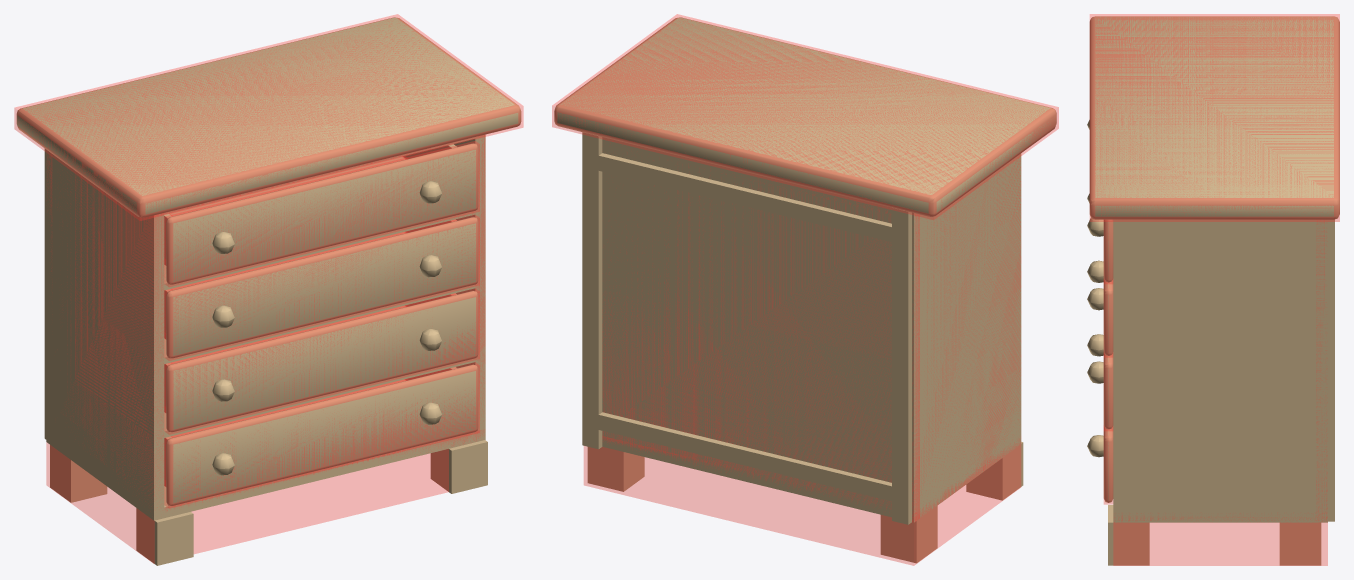
File: DresserD01.glb
The picture shows the model from 3 angles, left to right: view 1: azimuth 30°, elevation 25°; view 2: azimuth 150°, elevation 25°; view 3: azimuth 270°, elevation 25°; orthographic projection.
Visible parts, largest first — view 1: Body_Wood, Col_Tabletop, Drawer4_Wood, Drawer1_Wood, Drawer3_Wood, Drawer2_Wood, Col_Legs, Col_SideLeft, Col_Drawer1Front, Col_Drawer4Front, Col_Drawer2Front, Col_Drawer3Front (+2 smaller); view 2: Body_Wood, Col_Tabletop, Col_Legs, Col_Back, Col_SideLeft, Col_Bottom; view 3: Body_Wood, Col_Tabletop, Col_Legs, Drawer1_Wood, Drawer2_Wood, Drawer3_Wood, Drawer4_Wood, Col_Drawer1Front, Col_Drawer3Front, Col_Drawer2Front, Col_Drawer4Front.
Boxes of the visible parts, bbox=[...] form: Body_Wood: bbox=[16, 17, 521, 565]; Col_Tabletop: bbox=[14, 14, 523, 220]; Drawer4_Wood: bbox=[164, 143, 478, 284]; Drawer1_Wood: bbox=[164, 364, 478, 505]; Drawer3_Wood: bbox=[164, 217, 478, 358]; Drawer2_Wood: bbox=[164, 291, 478, 432]; Col_Legs: bbox=[46, 442, 448, 563]; Col_SideLeft: bbox=[70, 176, 163, 507]; Col_Drawer1Front: bbox=[164, 362, 479, 508]; Col_Drawer4Front: bbox=[164, 141, 479, 286]; Col_Drawer2Front: bbox=[164, 288, 479, 434]; Col_Drawer3Front: bbox=[164, 215, 479, 360]; Body_Wood: bbox=[554, 17, 1056, 563]; Col_Tabletop: bbox=[552, 14, 1058, 219]; Col_Legs: bbox=[584, 445, 1020, 565]; Col_Back: bbox=[602, 188, 919, 521]; Col_SideLeft: bbox=[921, 158, 1020, 480]; Col_Bottom: bbox=[602, 436, 1020, 522]; Body_Wood: bbox=[1089, 16, 1339, 565]; Col_Tabletop: bbox=[1090, 14, 1339, 221]; Col_Legs: bbox=[1113, 523, 1327, 565]; Drawer1_Wood: bbox=[1087, 334, 1113, 502]; Drawer2_Wood: bbox=[1087, 260, 1113, 429]; Drawer3_Wood: bbox=[1087, 193, 1113, 355]; Drawer4_Wood: bbox=[1087, 120, 1113, 282]; Col_Drawer1Front: bbox=[1104, 427, 1112, 504]; Col_Drawer3Front: bbox=[1104, 280, 1112, 357]; Col_Drawer2Front: bbox=[1104, 353, 1112, 430]; Col_Drawer4Front: bbox=[1104, 220, 1112, 283].
Size of the model in its own units: 3.7 by 3.5 by 2.12.
